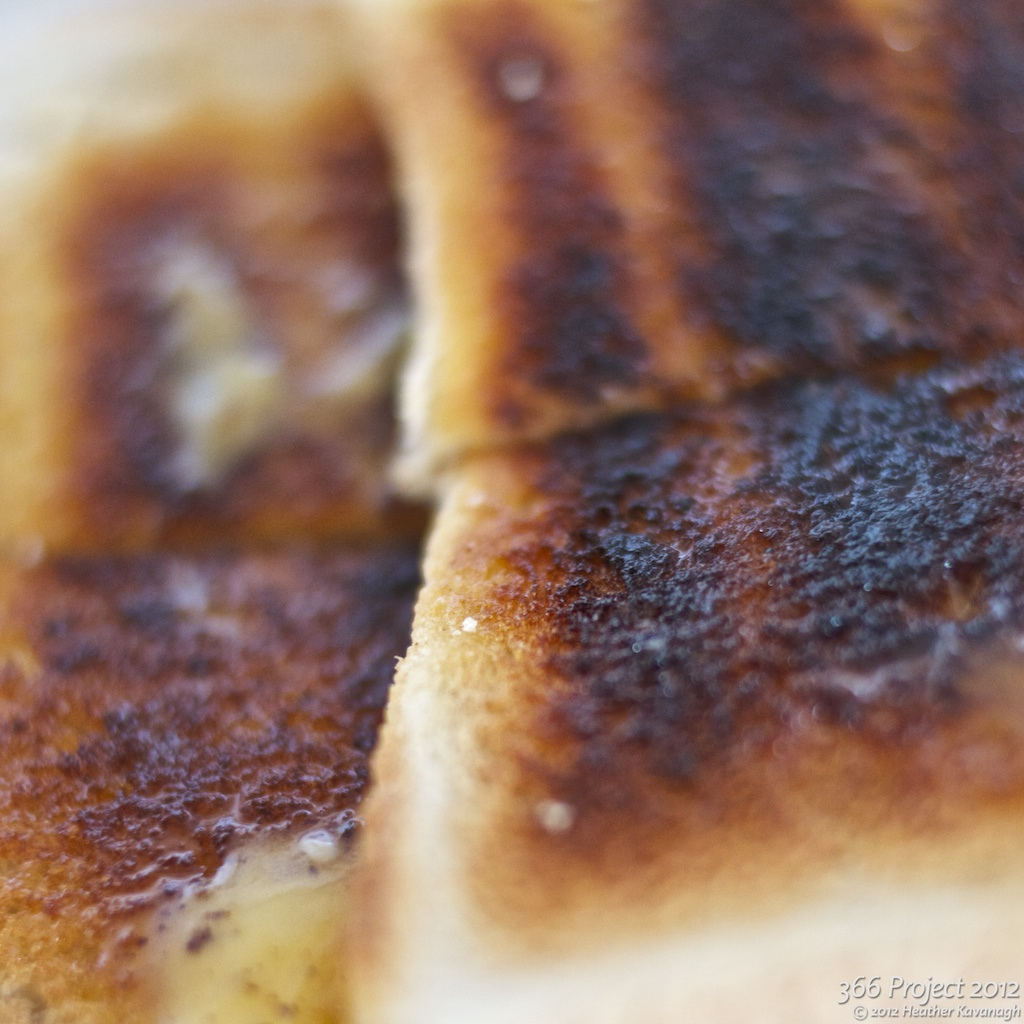slice of bread: (358, 1, 1023, 1020), (6, 4, 400, 1024)
